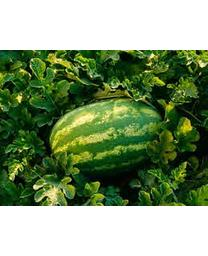watermelon: (49, 95, 165, 177)
